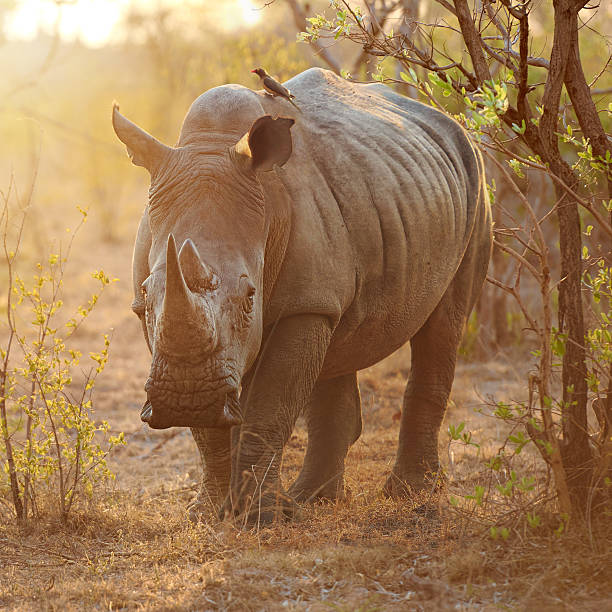rhino: (83, 96, 348, 460)
